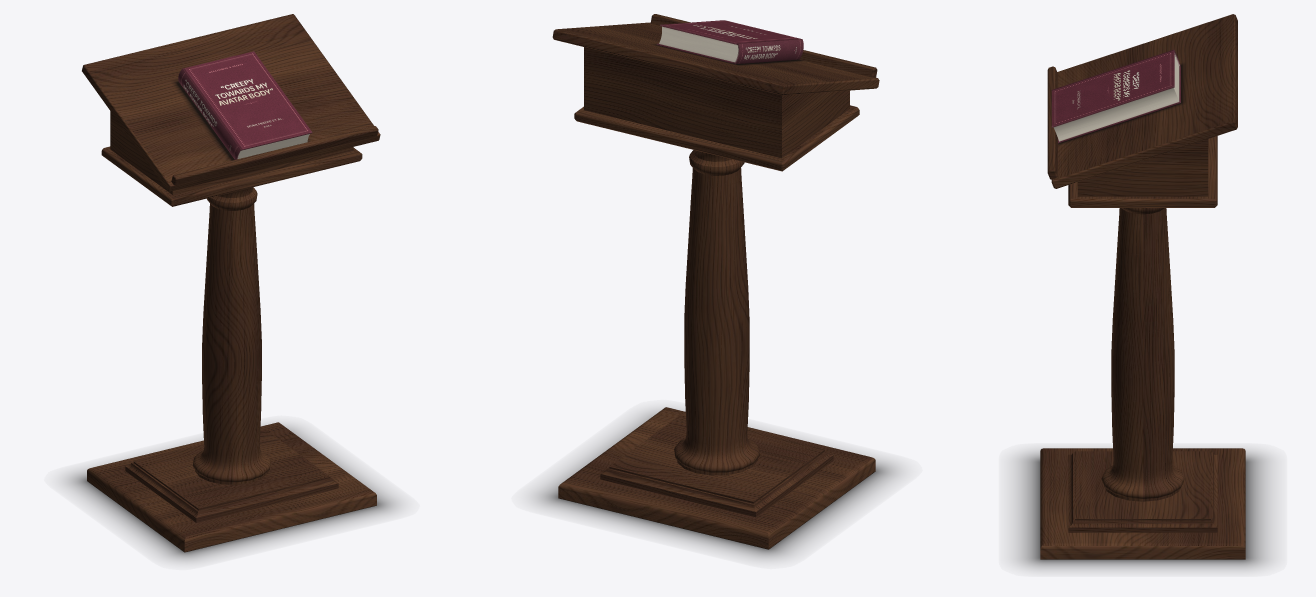
Rendered from schulenberg-2023-on-lectern.glb.
3 views of the same model, side by side, from view 1: azimuth 30°, elevation 25°; view 2: azimuth 150°, elevation 25°; view 3: azimuth 270°, elevation 25° (orthographic). The views are drawn at different scales.
Parts seen in each view (by area): view 1: lectern, schulenberg-2023, schulenberg-2023-contact-shadow; view 2: lectern, schulenberg-2023; view 3: lectern, schulenberg-2023, schulenberg-2023-contact-shadow.
Part boxes in pixels (x1,y1,x2,y2): lectern: (65, 14, 398, 561); schulenberg-2023: (178, 51, 312, 159); schulenberg-2023-contact-shadow: (173, 80, 308, 160); lectern: (534, 14, 899, 558); schulenberg-2023: (656, 20, 803, 64); lectern: (1016, 14, 1269, 569); schulenberg-2023: (1051, 49, 1180, 143); schulenberg-2023-contact-shadow: (1058, 64, 1184, 145).
Bounding box in the file's own units: 0.74 × 1.05 × 0.68.
7 materials, 7 textured.
